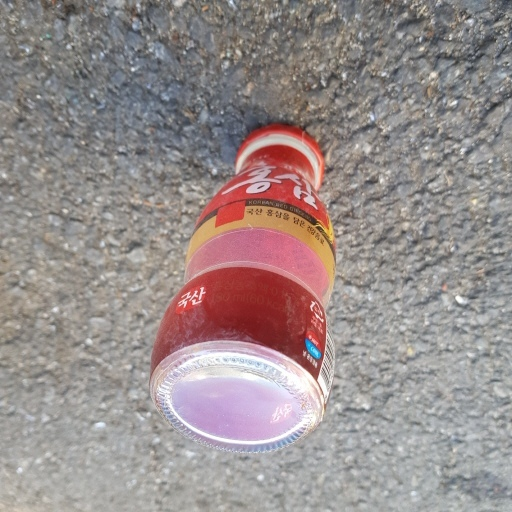Glass_4: (144, 125, 340, 453)
